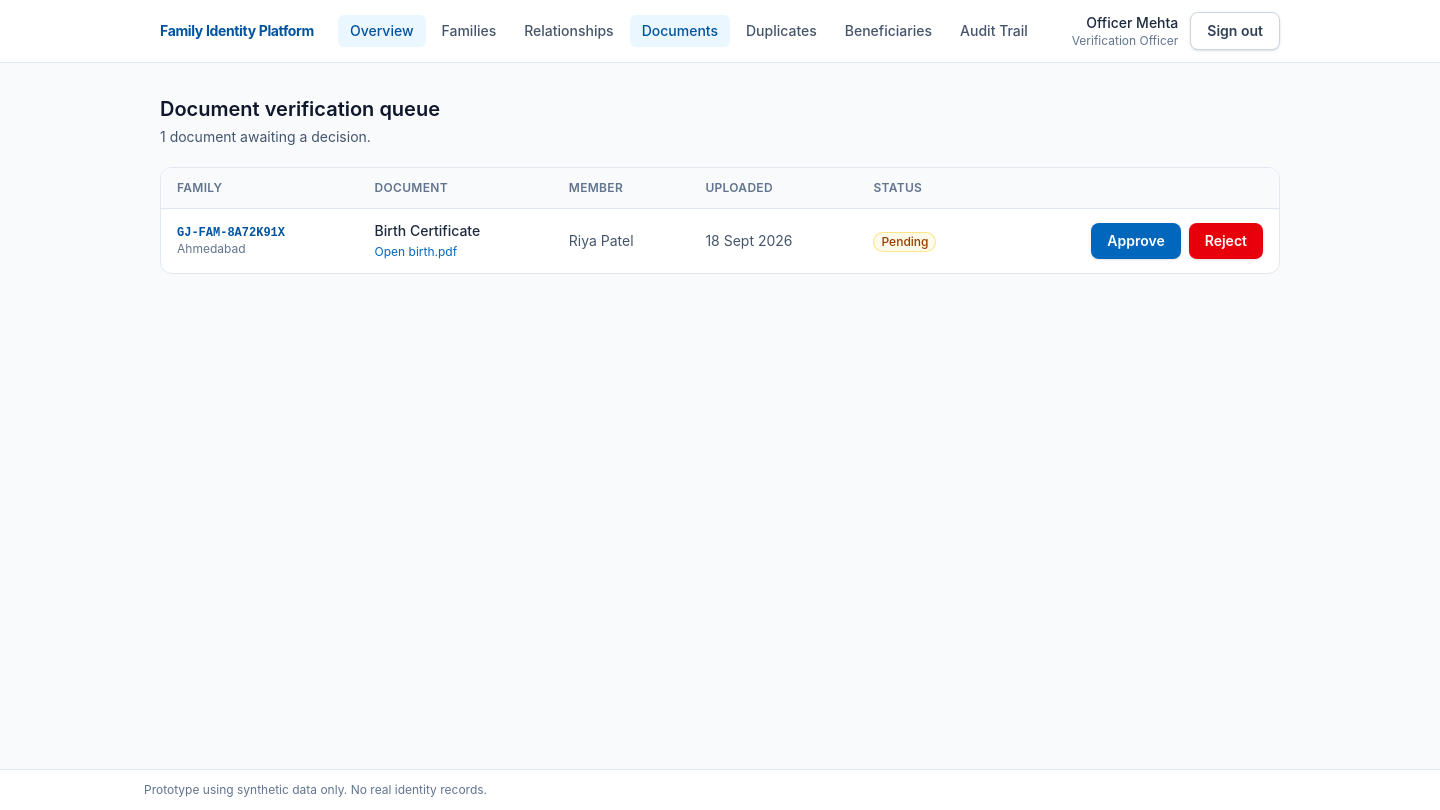
Test: DocumentQueuePage › approves a document and drops it from the queue
The image size is (1440, 810).
Expected: the text "GJ-FAM-8A72K91X" is shown, [177,226,285,240]
Click the button "Approve" at (1136, 241), box [1091,223,1181,259]
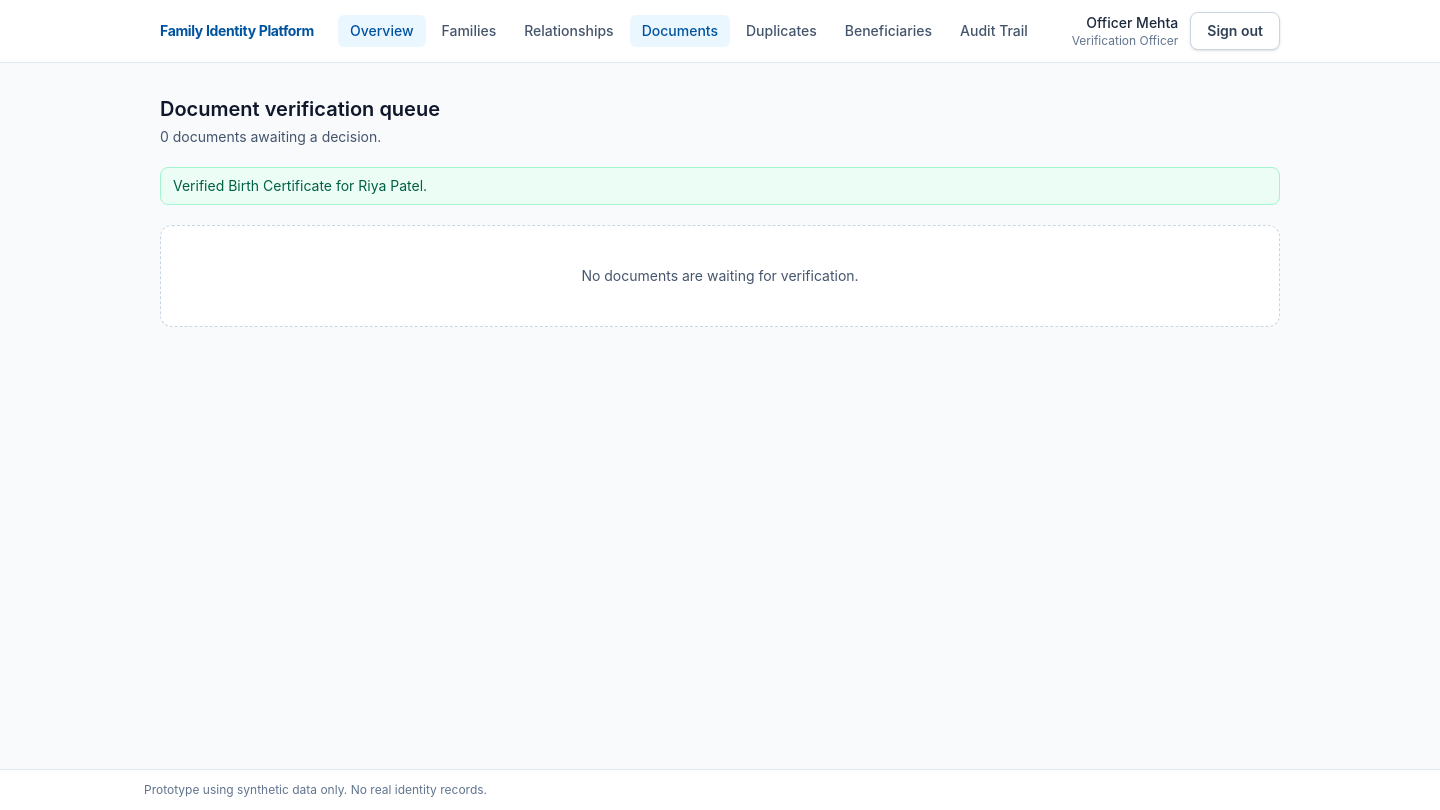
Expected: the text "GJ-FAM-8A72K91X" is gone
